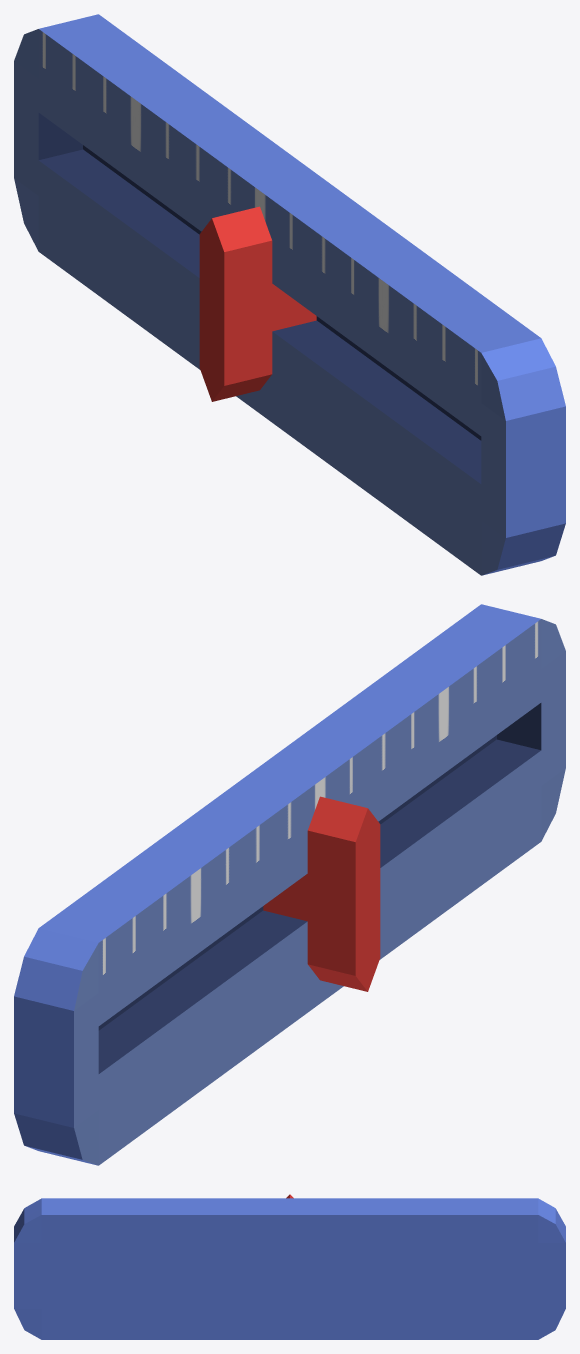
File: Slider.fbx
3 views of the same model, one above another, from view 1: azimuth 30°, elevation 25°; view 2: azimuth 150°, elevation 25°; view 3: azimuth 270°, elevation 25° (orthographic). The views are drawn at different scales.
Visible parts, largest first — view 1: Frame, Slider; view 2: Frame, Slider; view 3: Frame.
Boxes of the visible parts, x1,y1,x2,y2 form: Frame: (14,14,565,575); Slider: (199,206,316,401); Frame: (14,604,565,1165); Slider: (263,796,380,991); Frame: (14,1198,565,1339).
Bounding box in the file's own units: 5.07 × 10 × 40.
4 materials, 1 textured.
